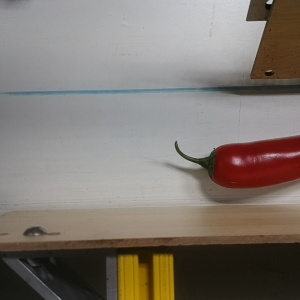Cut Point: (200, 144, 228, 187)
